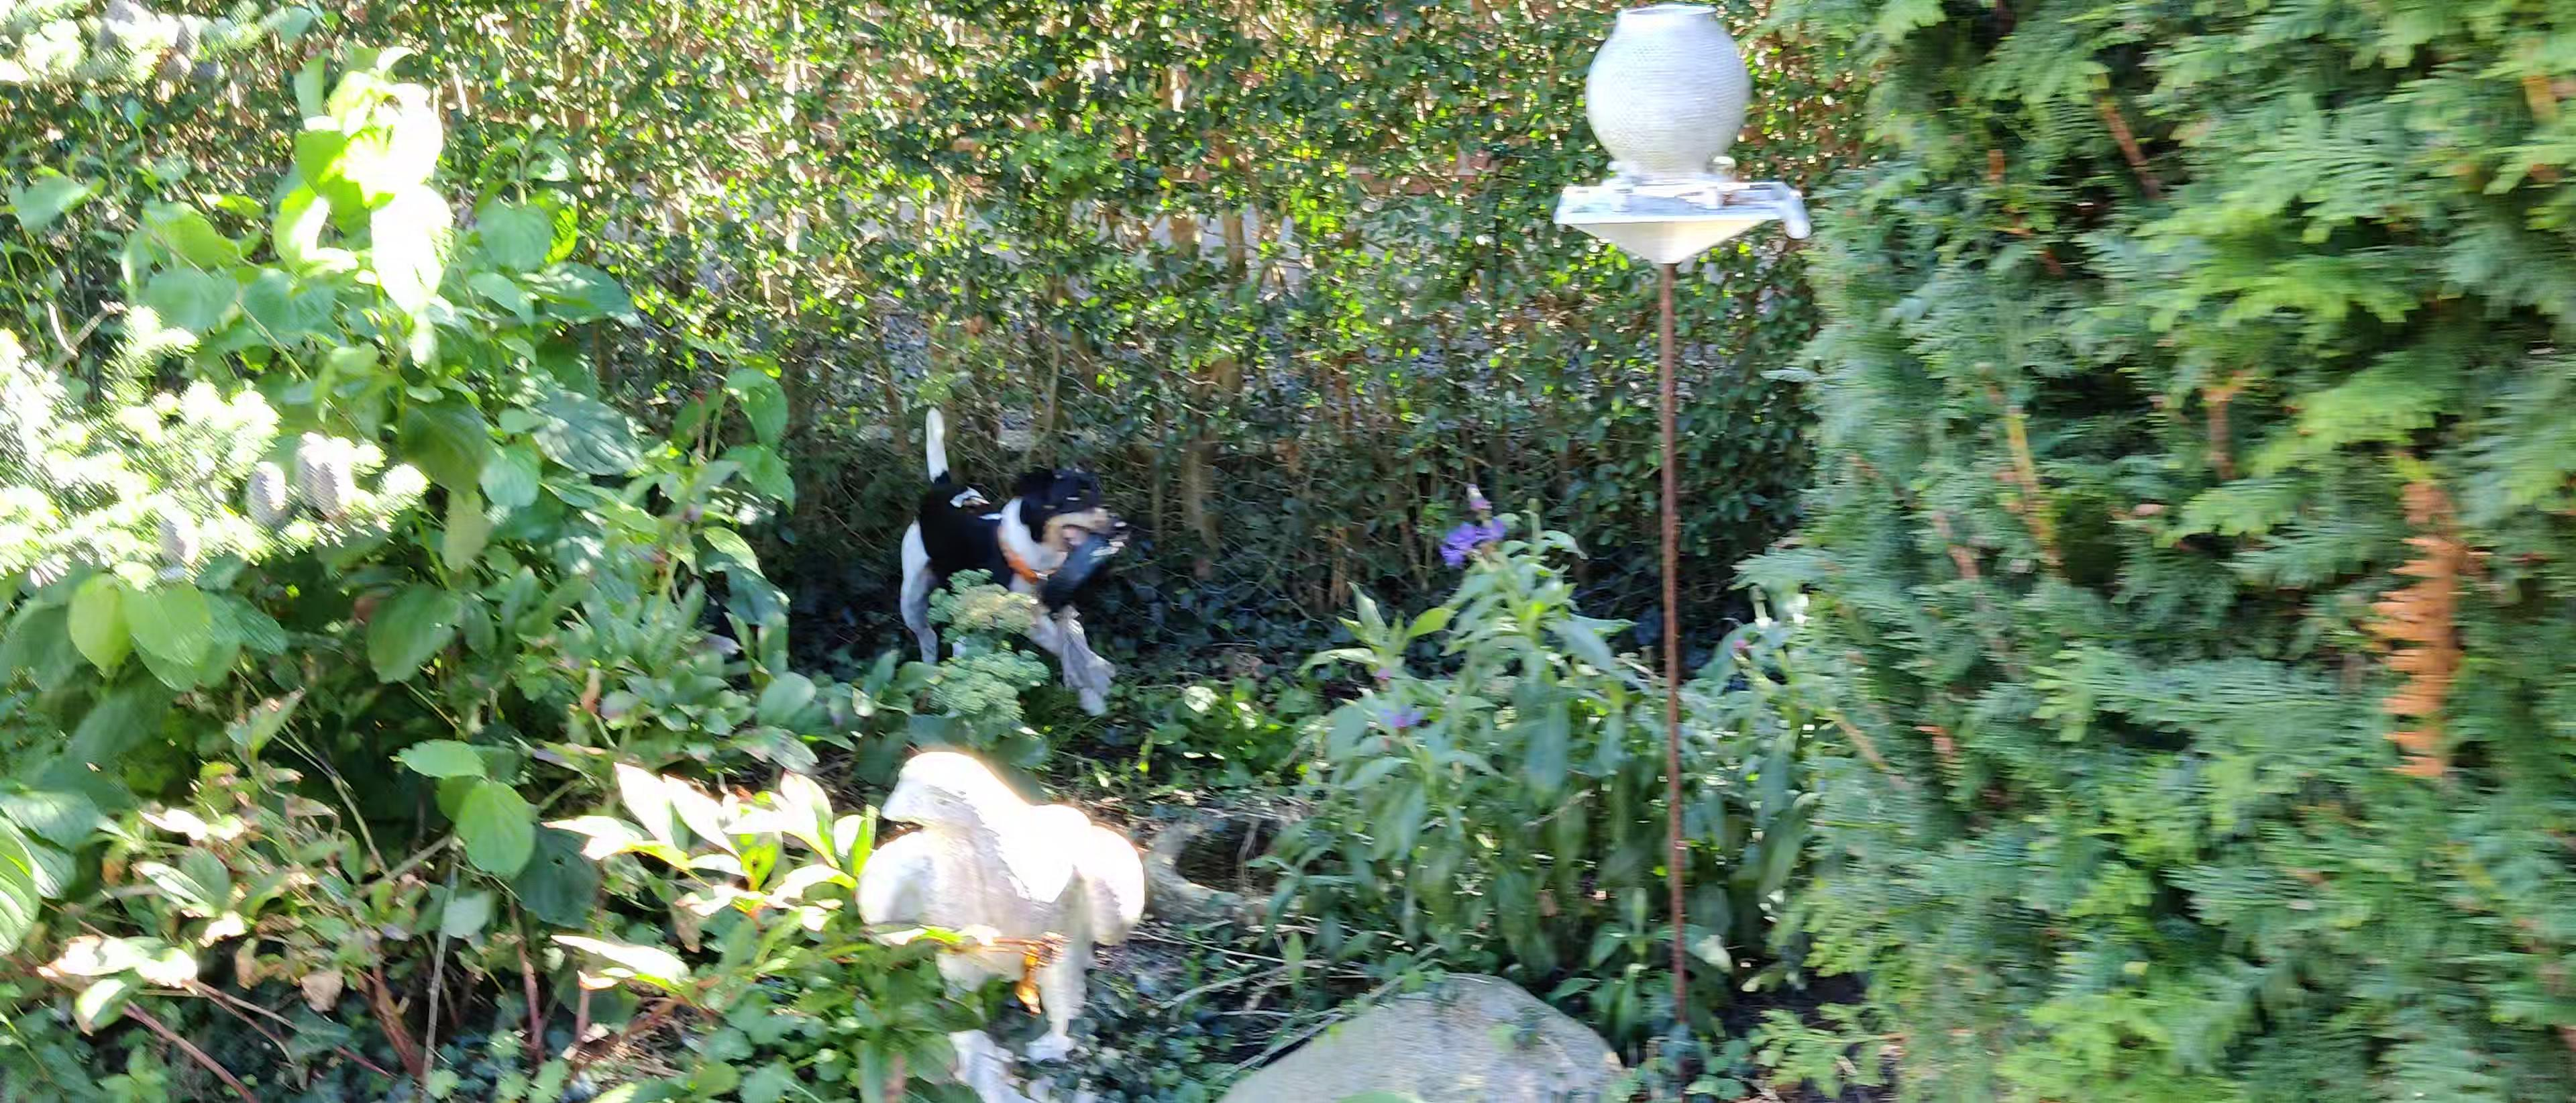Dog: (881, 398, 1129, 722)
